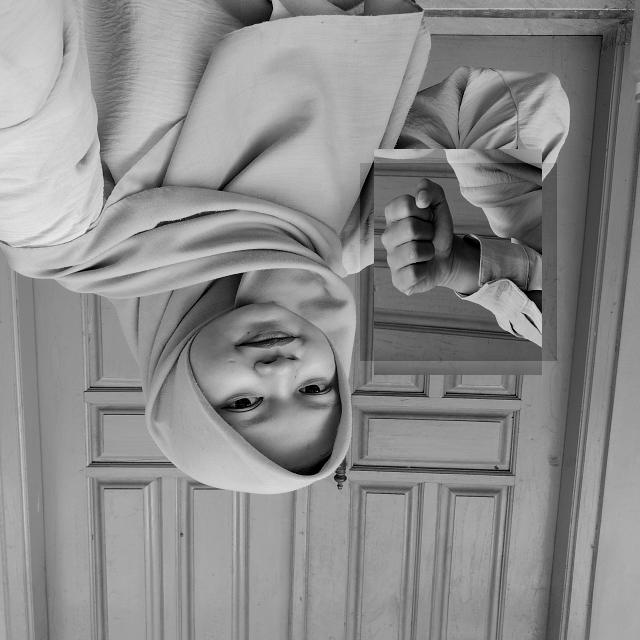baik: (360, 163, 557, 361)
